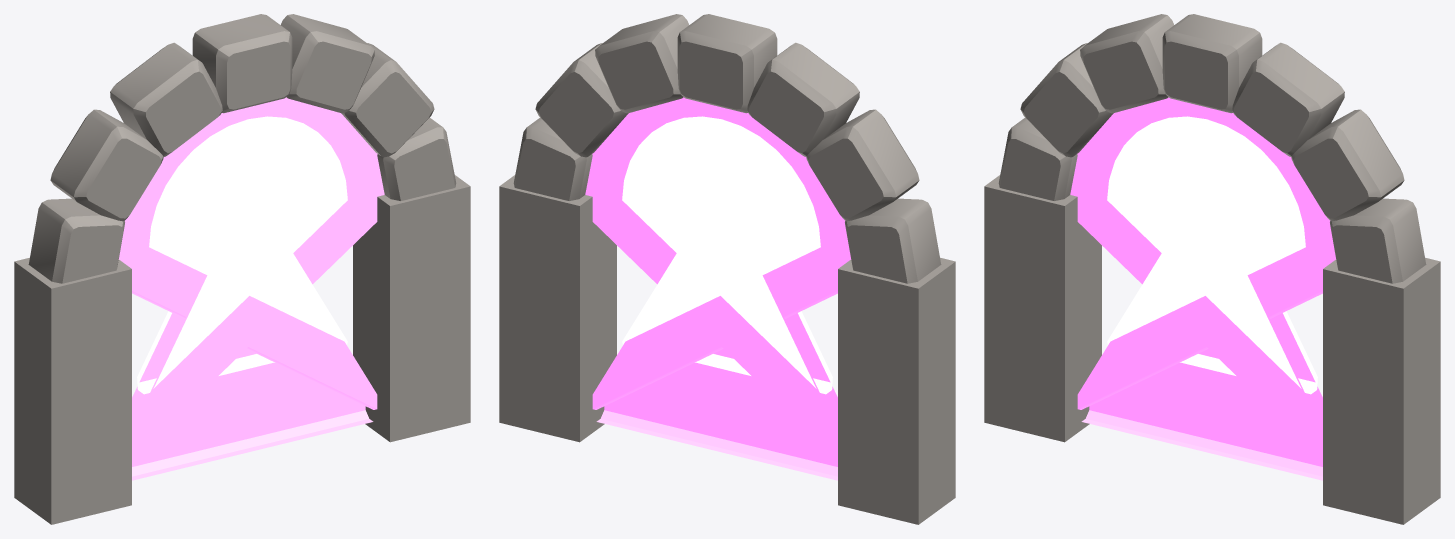
File: vfx-mesh-library-gateway-arch-50d1cee0__21906.glb
The picture shows the model from 3 angles, left to right: view 1: azimuth 30°, elevation 25°; view 2: azimuth 150°, elevation 25°; view 3: azimuth 330°, elevation 25°; orthographic projection.
Visible parts, largest first — view 1: gateway-arch; view 2: gateway-arch; view 3: gateway-arch.
Boxes of the visible parts, x1,y1,x2,y2 form: gateway-arch: (14,14,470,524); gateway-arch: (499,14,955,524); gateway-arch: (984,14,1440,524).
Bounding box in the file's own units: 1.04 × 1.02 × 0.16.
